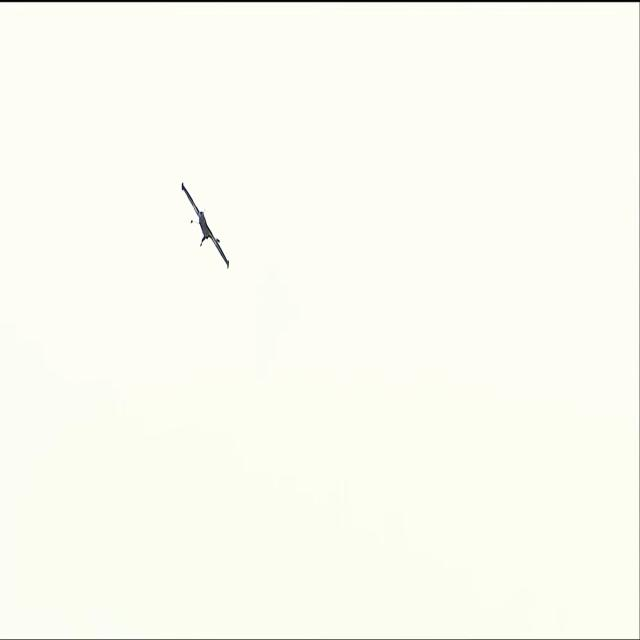iha: (180, 211, 230, 238)
